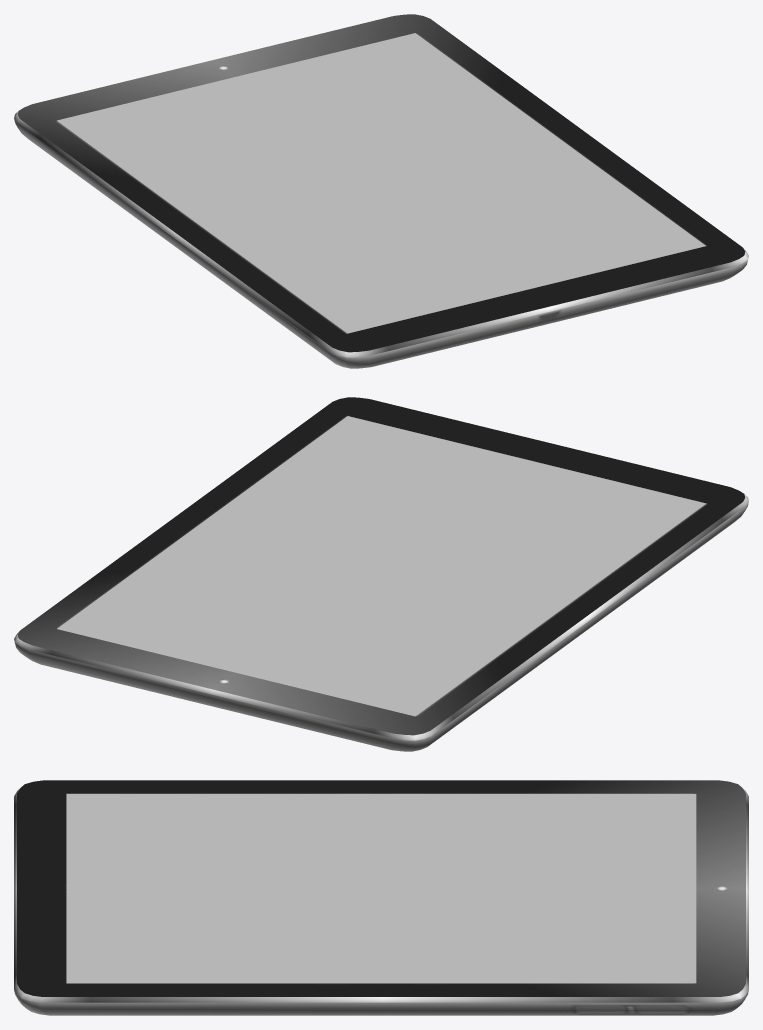
The model's file is tablet.fbx.
3 views of the same model, one above another, from view 1: azimuth 30°, elevation 25°; view 2: azimuth 150°, elevation 25°; view 3: azimuth 270°, elevation 25° (orthographic). The views are drawn at different scales.
Parts seen in each view (by area): view 1: screen_Cube.001, tablet_Cube; view 2: screen_Cube.001, tablet_Cube; view 3: screen_Cube.001, tablet_Cube.
Part boxes in pixels (<box>): screen_Cube.001: <box>57,33,705,333</box>; tablet_Cube: <box>14,14,748,368</box>; screen_Cube.001: <box>57,416,705,716</box>; tablet_Cube: <box>14,397,748,751</box>; screen_Cube.001: <box>66,794,696,983</box>; tablet_Cube: <box>14,780,748,1015</box>.
Size of the model in its own units: 1696 by 83.96 by 2403.
